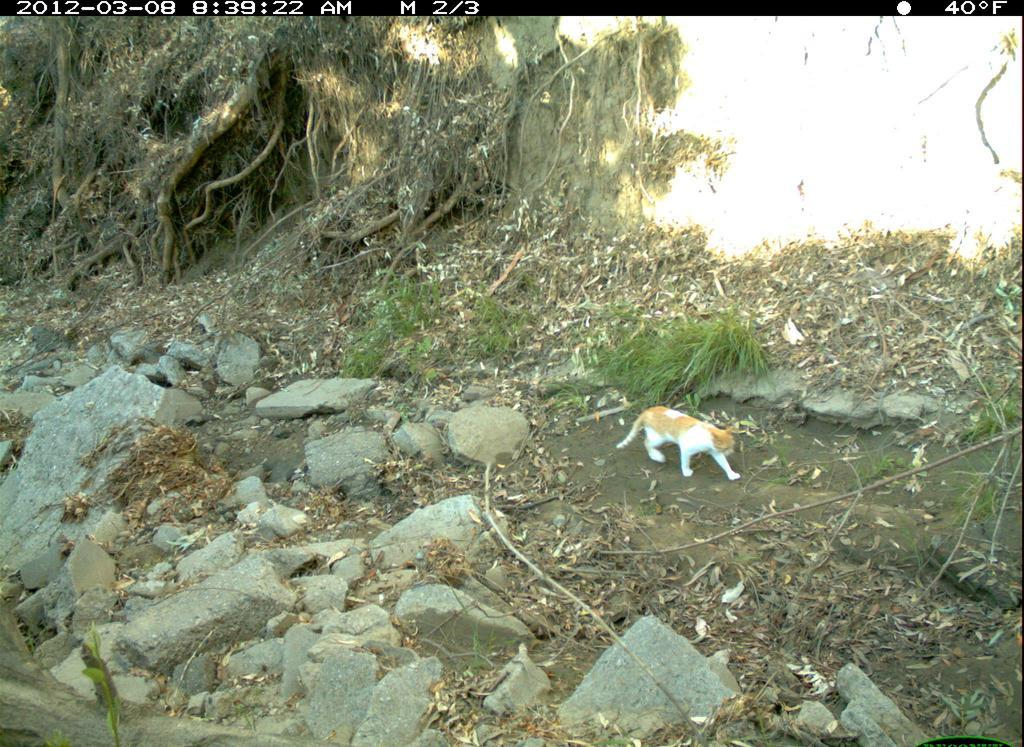cat: (610, 401, 752, 496)
